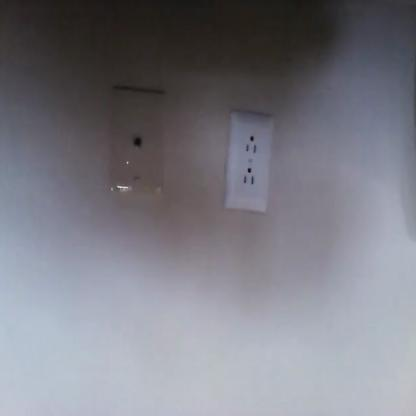OUTLET: (225, 114, 274, 209)
